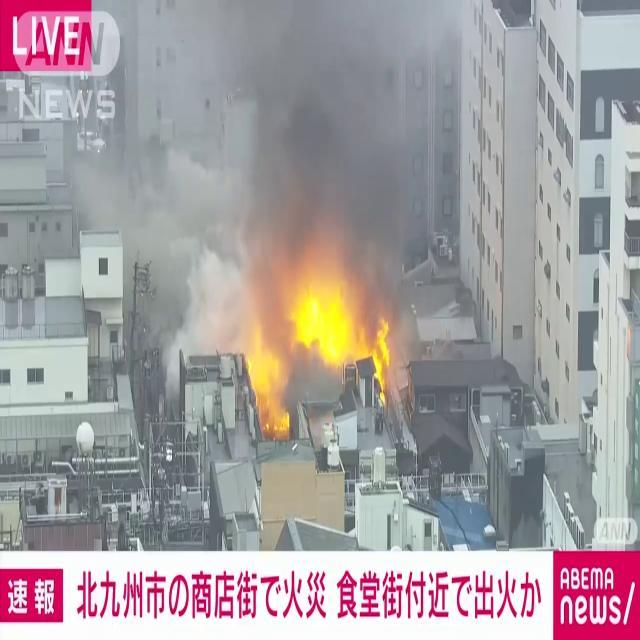Fire: (246, 258, 394, 434)
Smoke: (178, 0, 456, 312)
